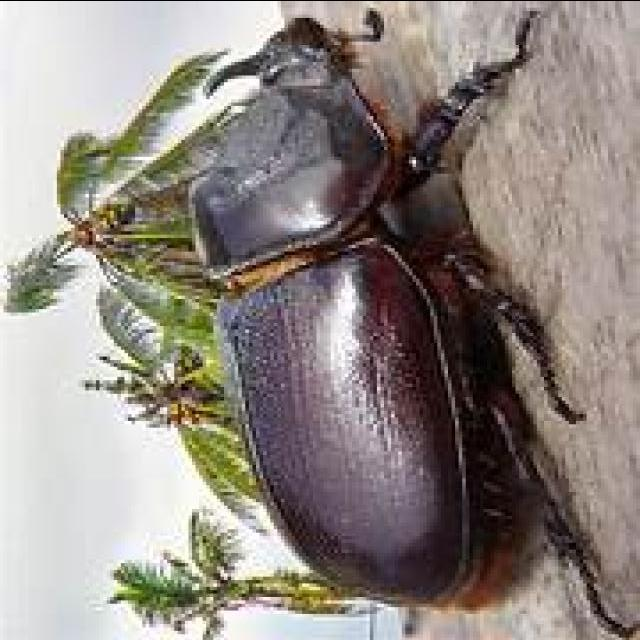Rhino-beetle: (185, 35, 582, 613)
